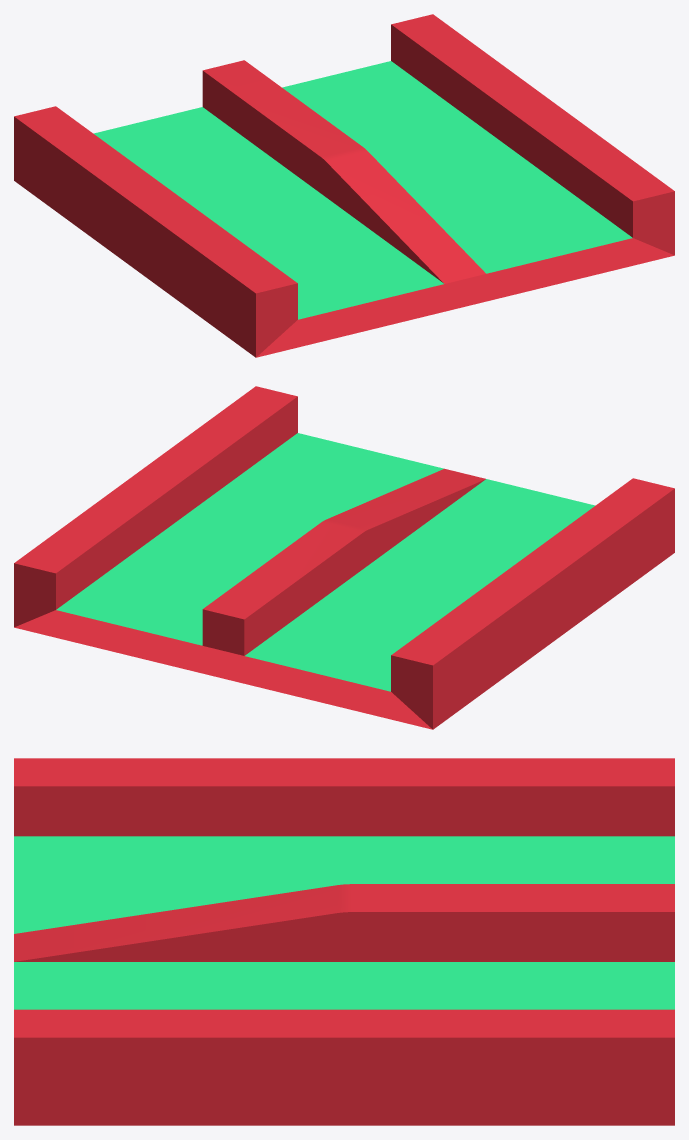
The model's file is splitStart.fbx.
The picture shows the model from 3 angles, top to bottom: view 1: azimuth 30°, elevation 25°; view 2: azimuth 150°, elevation 25°; view 3: azimuth 270°, elevation 25°; orthographic projection. The views are drawn at different scales.
Parts seen in each view (by area): view 1: splitStart; view 2: splitStart; view 3: splitStart.
Part boxes in pixels (bbox=[...]): splitStart: bbox=[14, 14, 674, 357]; splitStart: bbox=[14, 386, 674, 729]; splitStart: bbox=[14, 758, 674, 1125].
Bounding box in the file's own units: 99.99 × 99.99 × 14.67.
